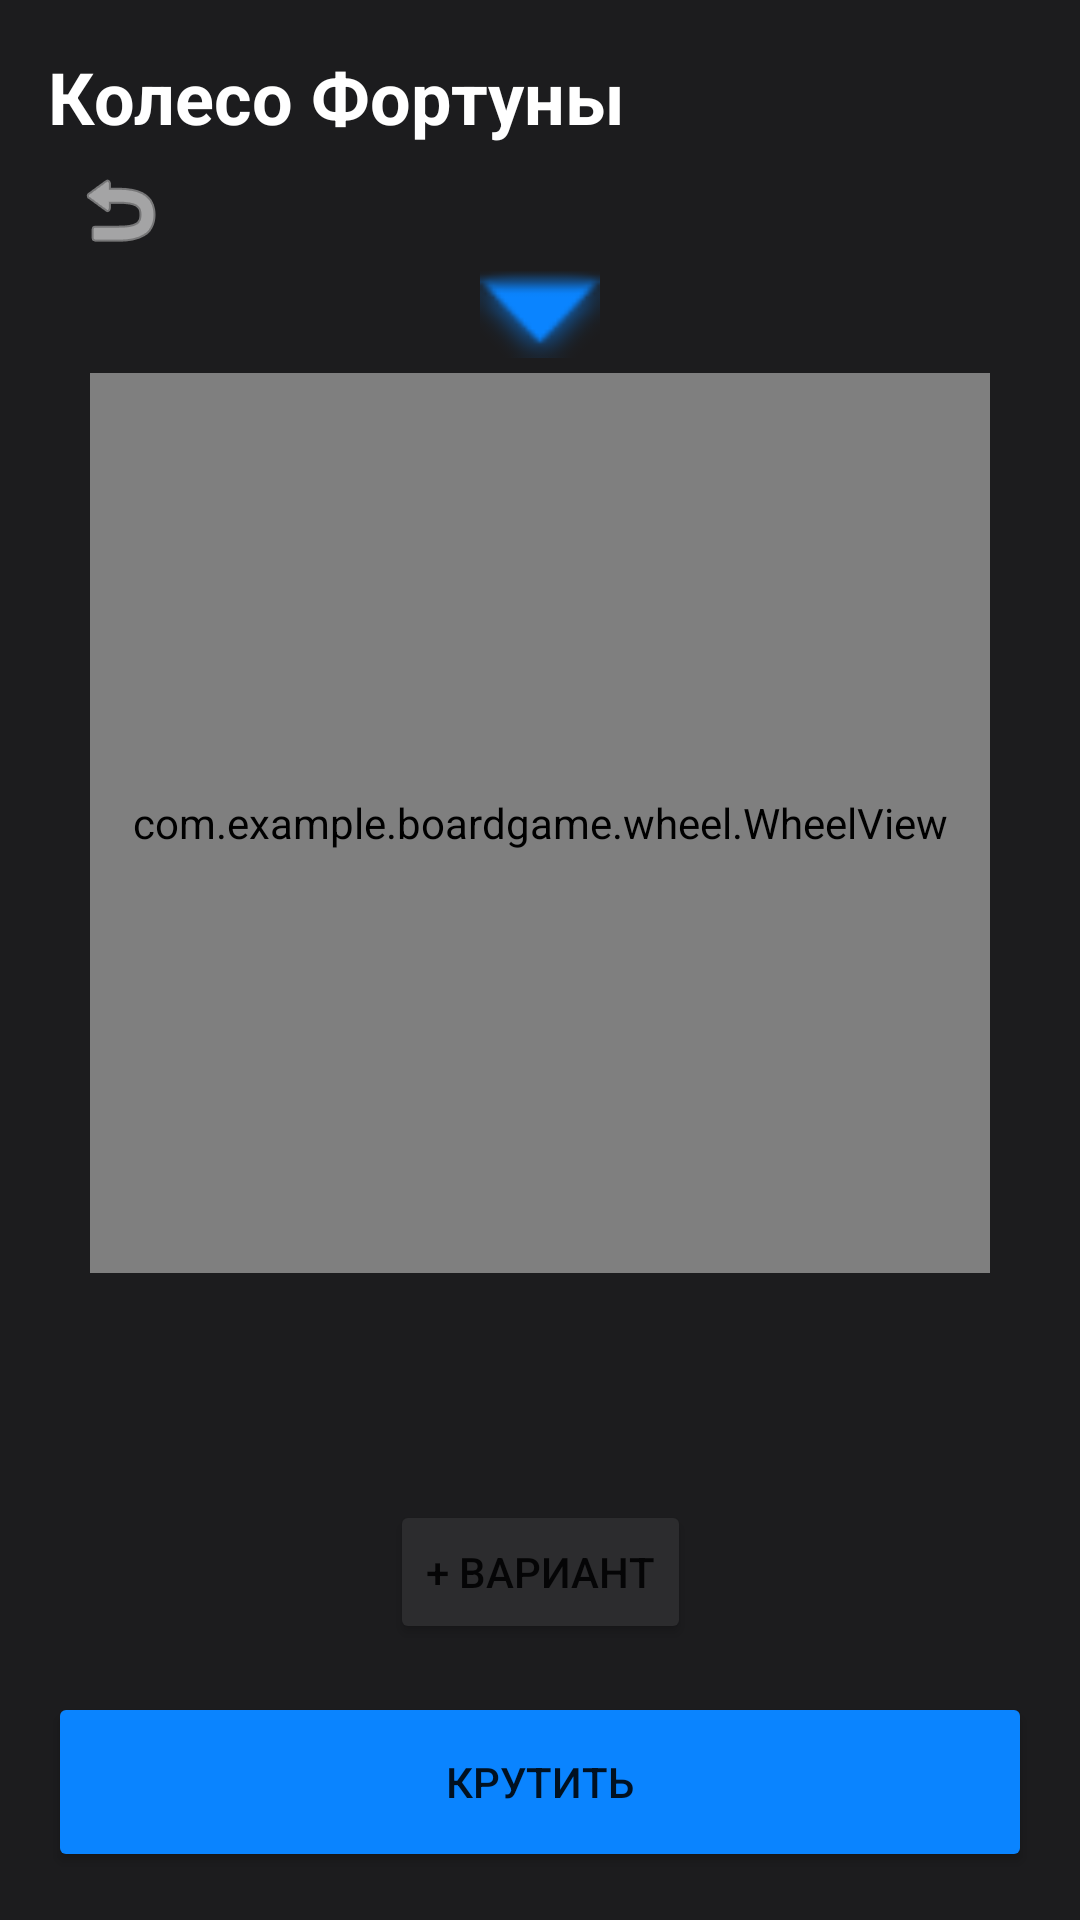

Point at icon controls on the screen. Image size 1080*1920, points as (x,y).
arrow down float: (540,314)
Выход: (121,210)
